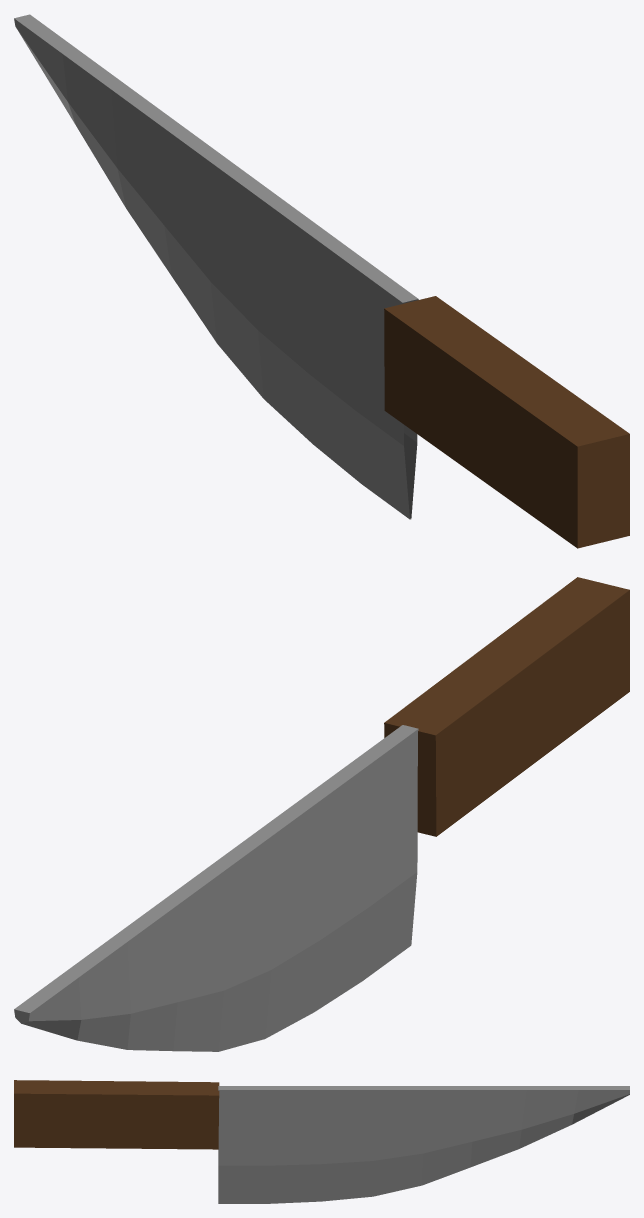
File: Knife.fbx
3 views of the same model, one above another, from view 1: azimuth 30°, elevation 25°; view 2: azimuth 150°, elevation 25°; view 3: azimuth 270°, elevation 25° (orthographic). The views are drawn at different scales.
Parts seen in each view (by area): view 1: Cube; view 2: Cube; view 3: Cube.
Part boxes in pixels (left/top/right/bottom): Cube: left=14, top=14, right=629, bottom=548; Cube: left=14, top=577, right=629, bottom=1051; Cube: left=14, top=1080, right=629, bottom=1203.
Size of the model in its own units: 73.24 by 295 by 1408.
